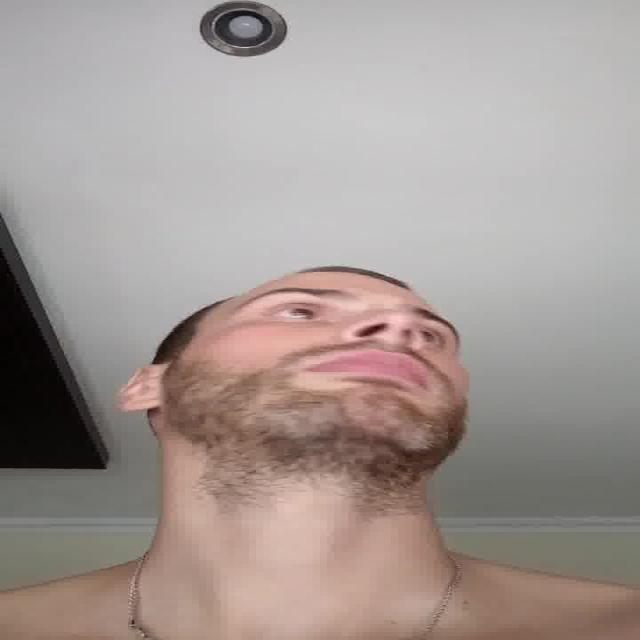earlobe: (114, 366, 160, 413)
